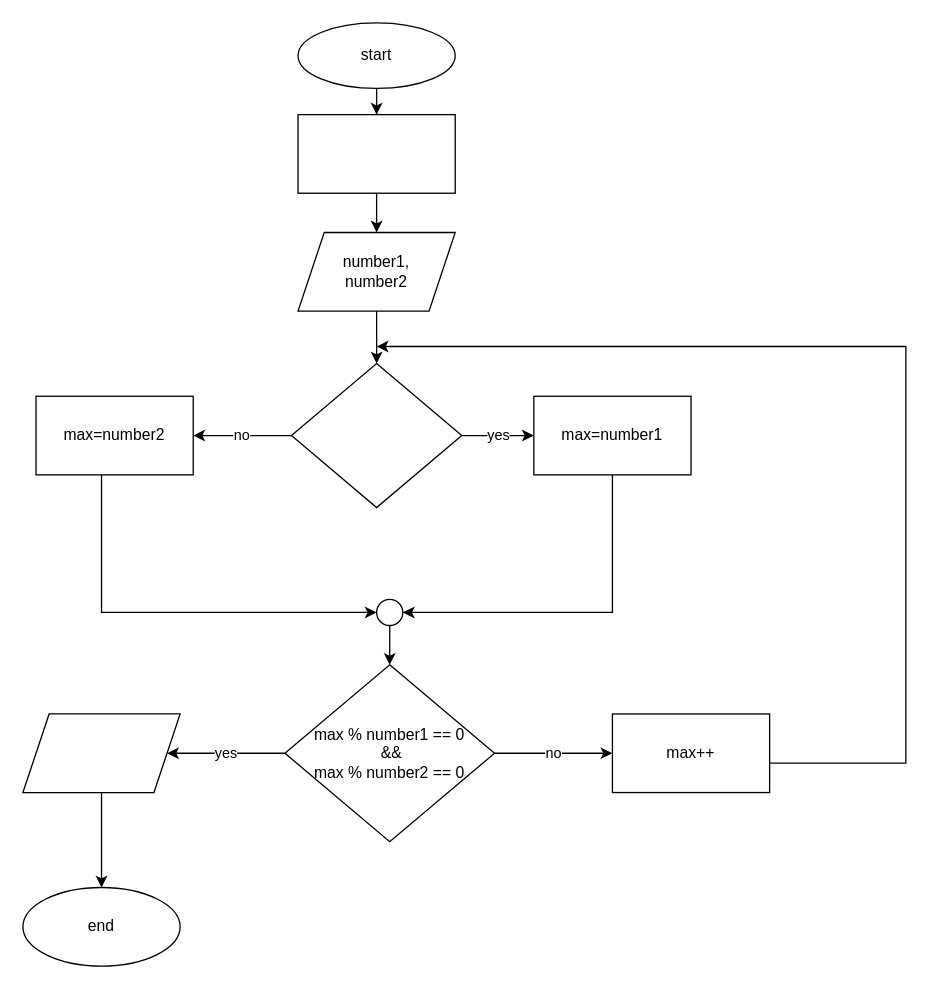
This 939x989 diagram has some shape labels left out. Here are the shapes that lost their labels. From the top down, the centre of each, then its label:
the point at 376,153: max
the point at 376,435: if number1>number2
the point at 101,753: print(max)
